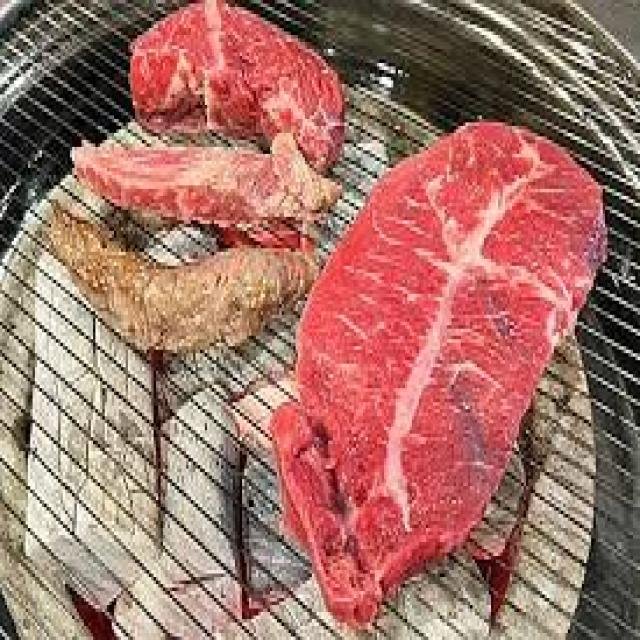beef: (275, 122, 607, 624)
